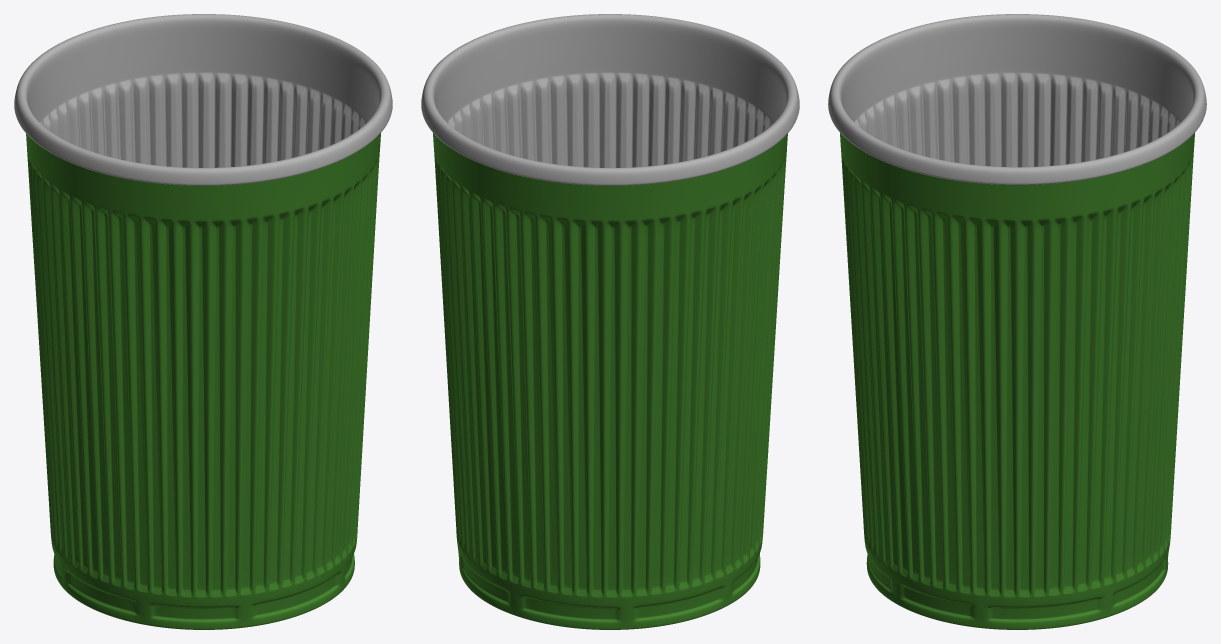
The model's file is Plastic Cup.fbx.
3 views of the same model, side by side, from view 1: azimuth 30°, elevation 25°; view 2: azimuth 150°, elevation 25°; view 3: azimuth 270°, elevation 25° (orthographic).
Visible parts, largest first — view 1: Plastic_Cup_High-poly; view 2: Plastic_Cup_High-poly; view 3: Plastic_Cup_High-poly.
Boxes of the visible parts, x1=… form: Plastic_Cup_High-poly: x1=14, y1=14, x2=392, y2=629; Plastic_Cup_High-poly: x1=421, y1=14, x2=799, y2=629; Plastic_Cup_High-poly: x1=828, y1=14, x2=1206, y2=629.
Size of what is drawn, in the model's own units: 254 by 353 by 254.
